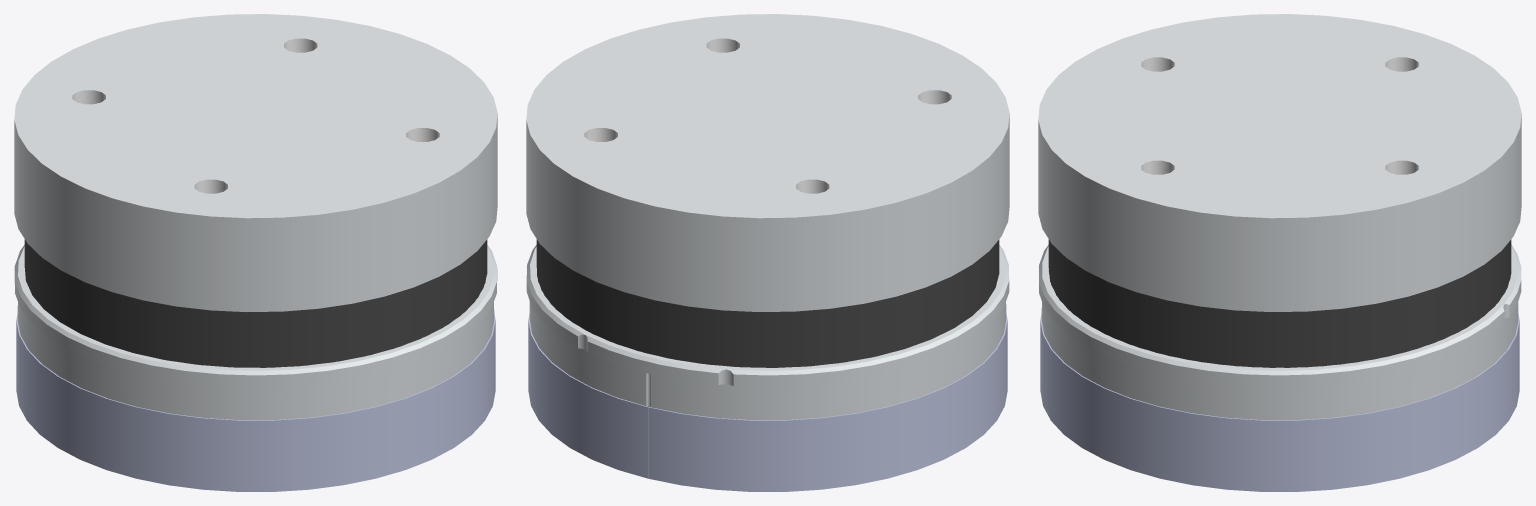
Rendered from force_sensor.DAE.
3 renders of one model, left to right at view 1: azimuth 30°, elevation 25°; view 2: azimuth 150°, elevation 25°; view 3: azimuth 270°, elevation 25°, orthographic.
Parts seen in each view (by area): view 1: stitch_result_stitchFBXASC032all, stitch_result_stitchFBXASC032all_ncl1_3, stitch_result_stitchFBXASC032all_ncl1_2, stitch_result_stitchFBXASC032all_ncl1_1; view 2: stitch_result_stitchFBXASC032all, stitch_result_stitchFBXASC032all_ncl1_3, stitch_result_stitchFBXASC032all_ncl1_2, stitch_result_stitchFBXASC032all_ncl1_1; view 3: stitch_result_stitchFBXASC032all, stitch_result_stitchFBXASC032all_ncl1_3, stitch_result_stitchFBXASC032all_ncl1_2, stitch_result_stitchFBXASC032all_ncl1_1.
Part boxes in pixels (x1,y1,x2,y2): stitch_result_stitchFBXASC032all: (14,14,497,311); stitch_result_stitchFBXASC032all_ncl1_3: (16,313,495,491); stitch_result_stitchFBXASC032all_ncl1_2: (14,245,497,419); stitch_result_stitchFBXASC032all_ncl1_1: (24,239,487,367); stitch_result_stitchFBXASC032all: (526,14,1009,311); stitch_result_stitchFBXASC032all_ncl1_3: (528,313,1007,491); stitch_result_stitchFBXASC032all_ncl1_2: (526,245,1009,419); stitch_result_stitchFBXASC032all_ncl1_1: (536,239,999,367); stitch_result_stitchFBXASC032all: (1038,14,1521,311); stitch_result_stitchFBXASC032all_ncl1_3: (1040,313,1519,491); stitch_result_stitchFBXASC032all_ncl1_2: (1039,244,1521,419); stitch_result_stitchFBXASC032all_ncl1_1: (1048,239,1511,367).
Size of the model in its own units: 2.76 by 2.75 by 1.73.
